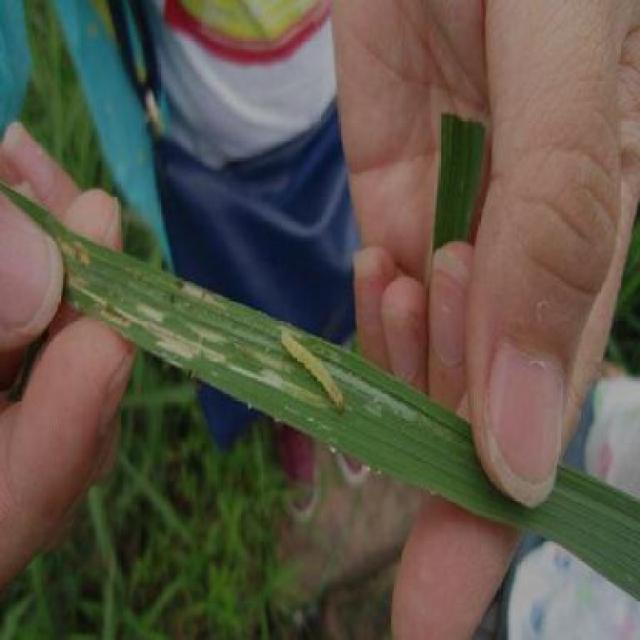leaf-folder: (272, 306, 354, 439)
